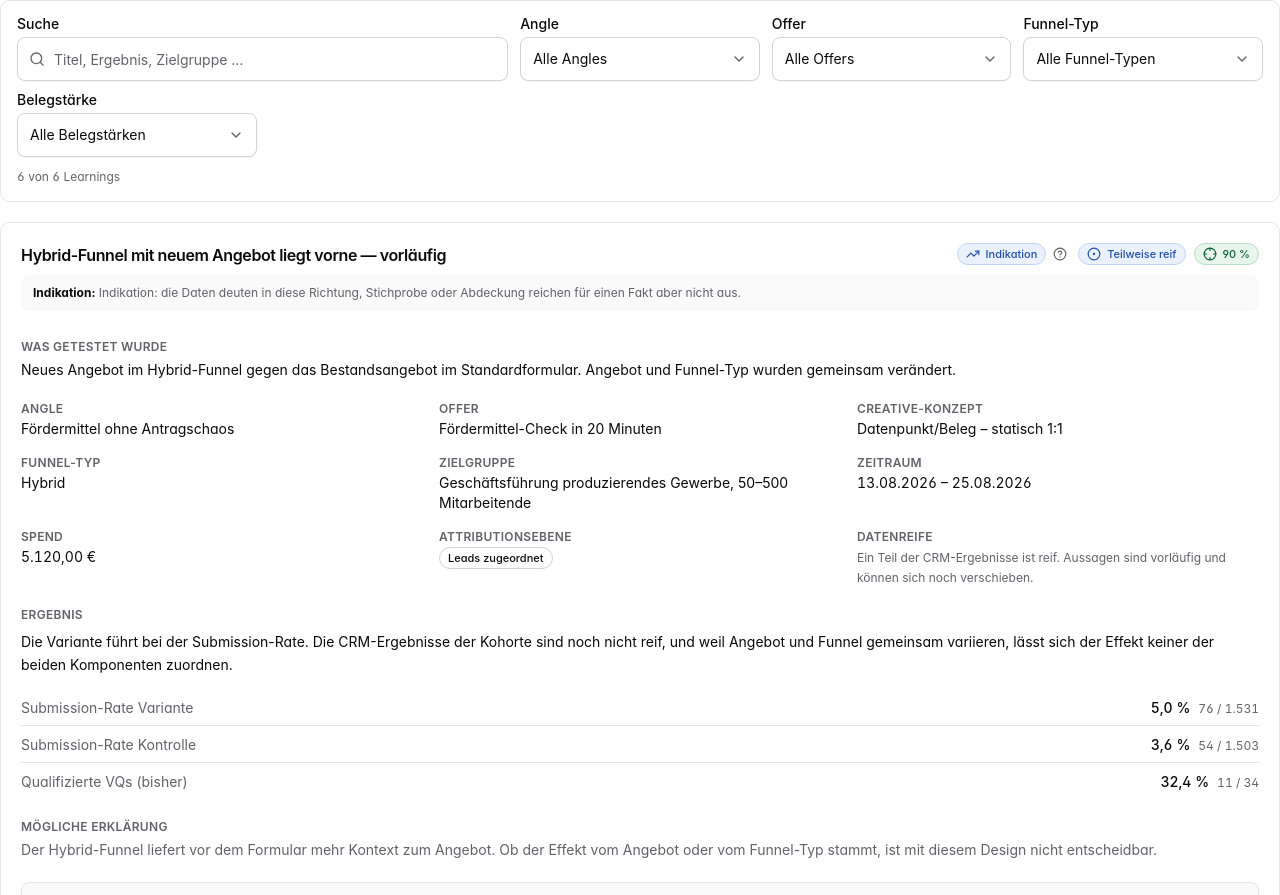
Scenario: LearningsBrowser › offers a way back when a filter matches nothing
Type "zzz-existiert-nicht" into the search field labelled "Suche" at (263, 59), box x1=17 y1=37 x2=508 y2=81
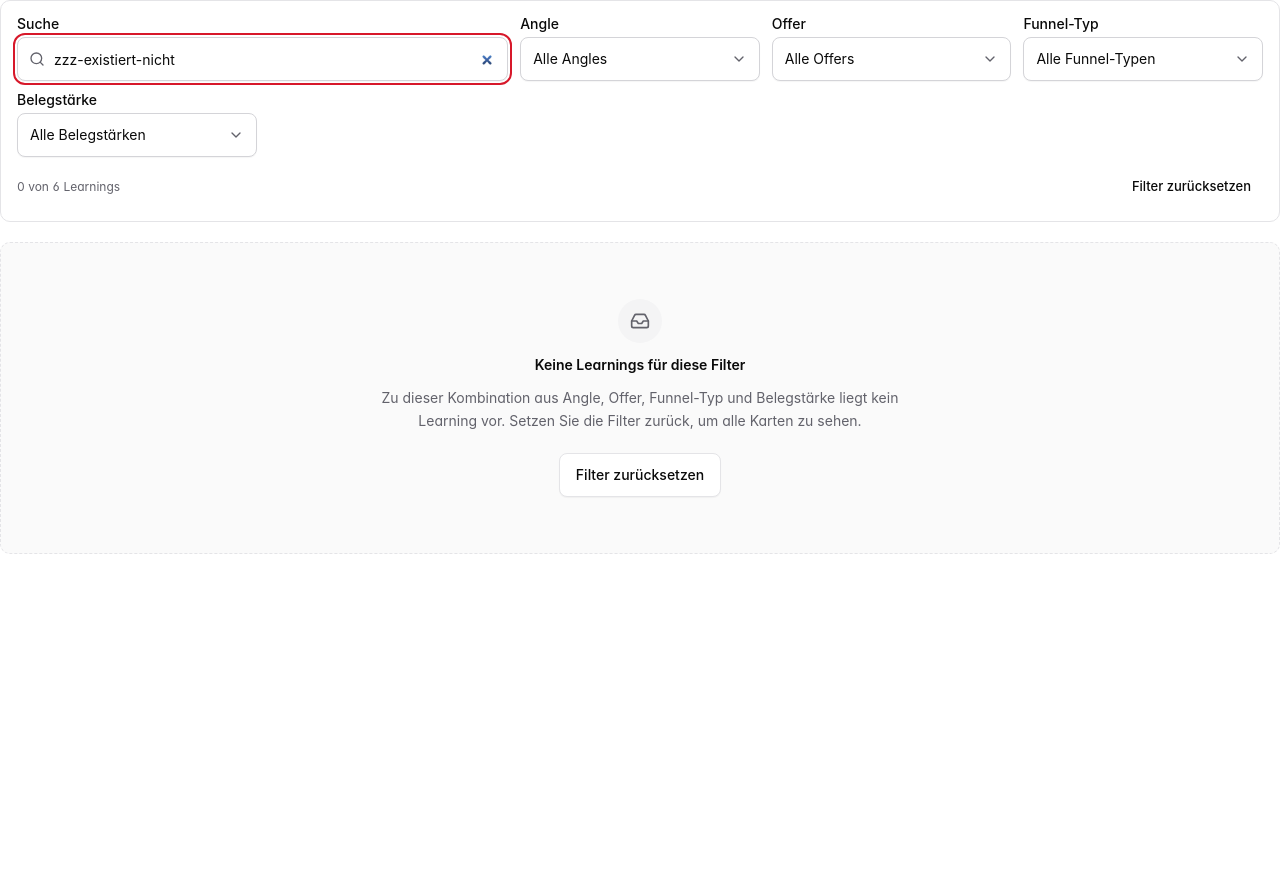
Expected: the heading "Keine Learnings für diese Filter" is shown, x1=535 y1=355 x2=745 y2=375
Click the button "Filter zurücksetzen" in the row of "von" at (1191, 187), box x1=1120 y1=169 x2=1263 y2=205
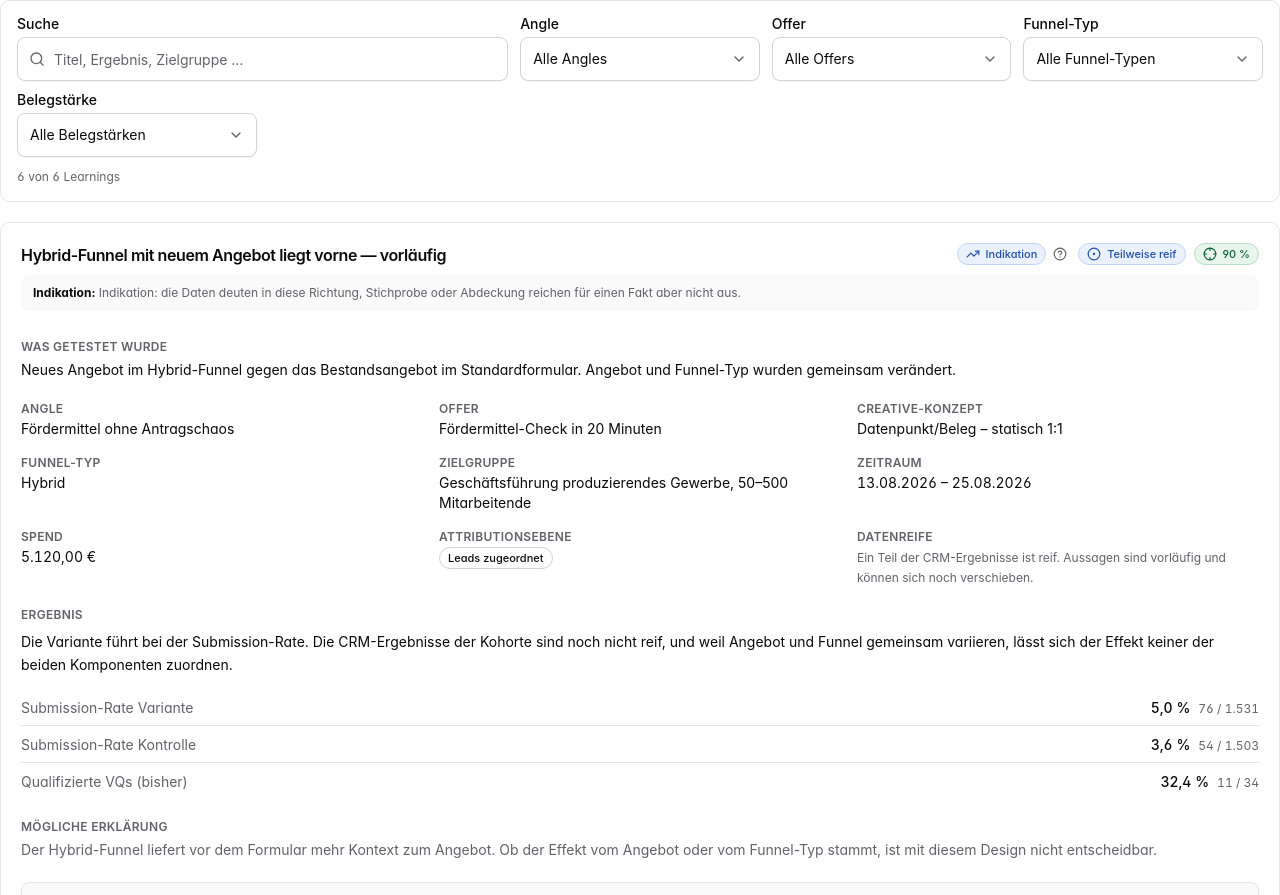
Expected: the heading "Keine Learnings für diese Filter" is gone
